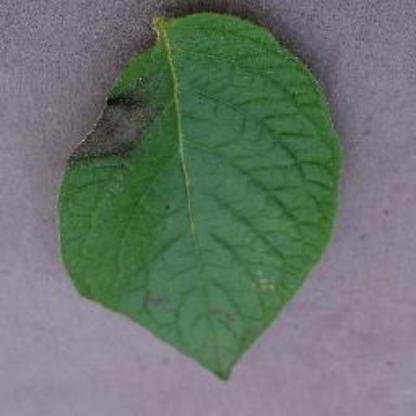Late-Blight: (48, 5, 352, 393)
